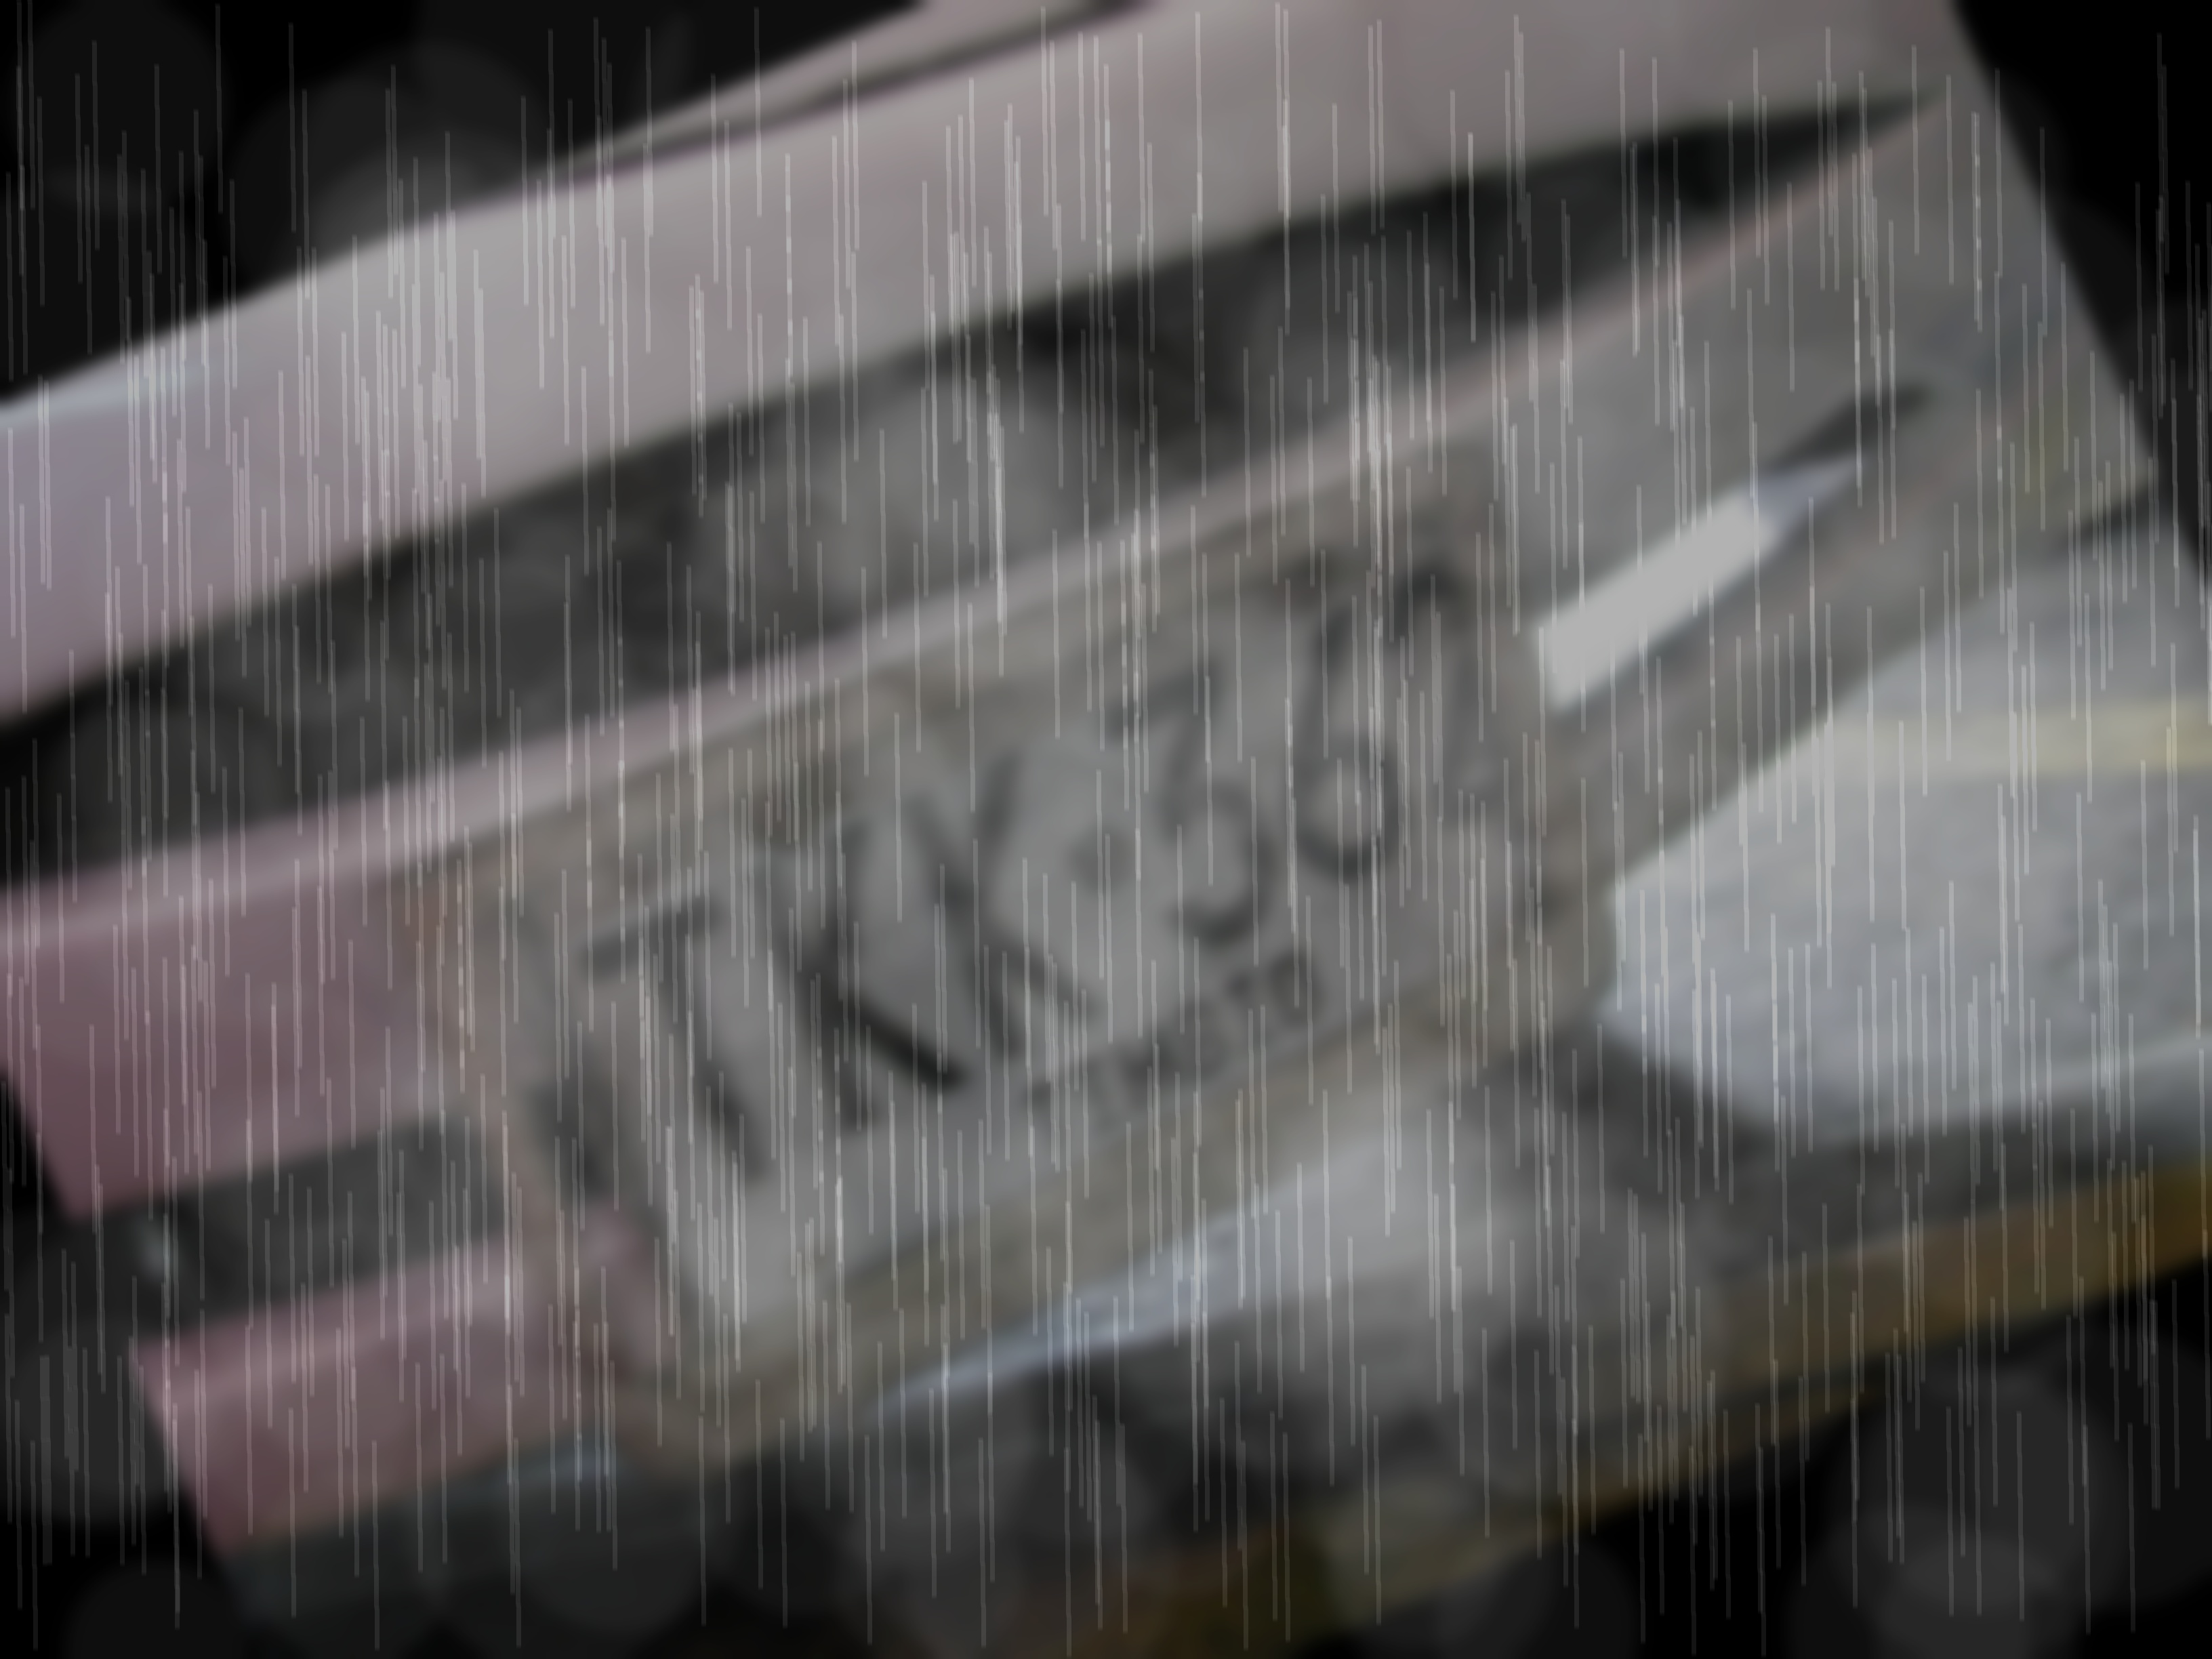placas: (485, 499, 1623, 1374)
